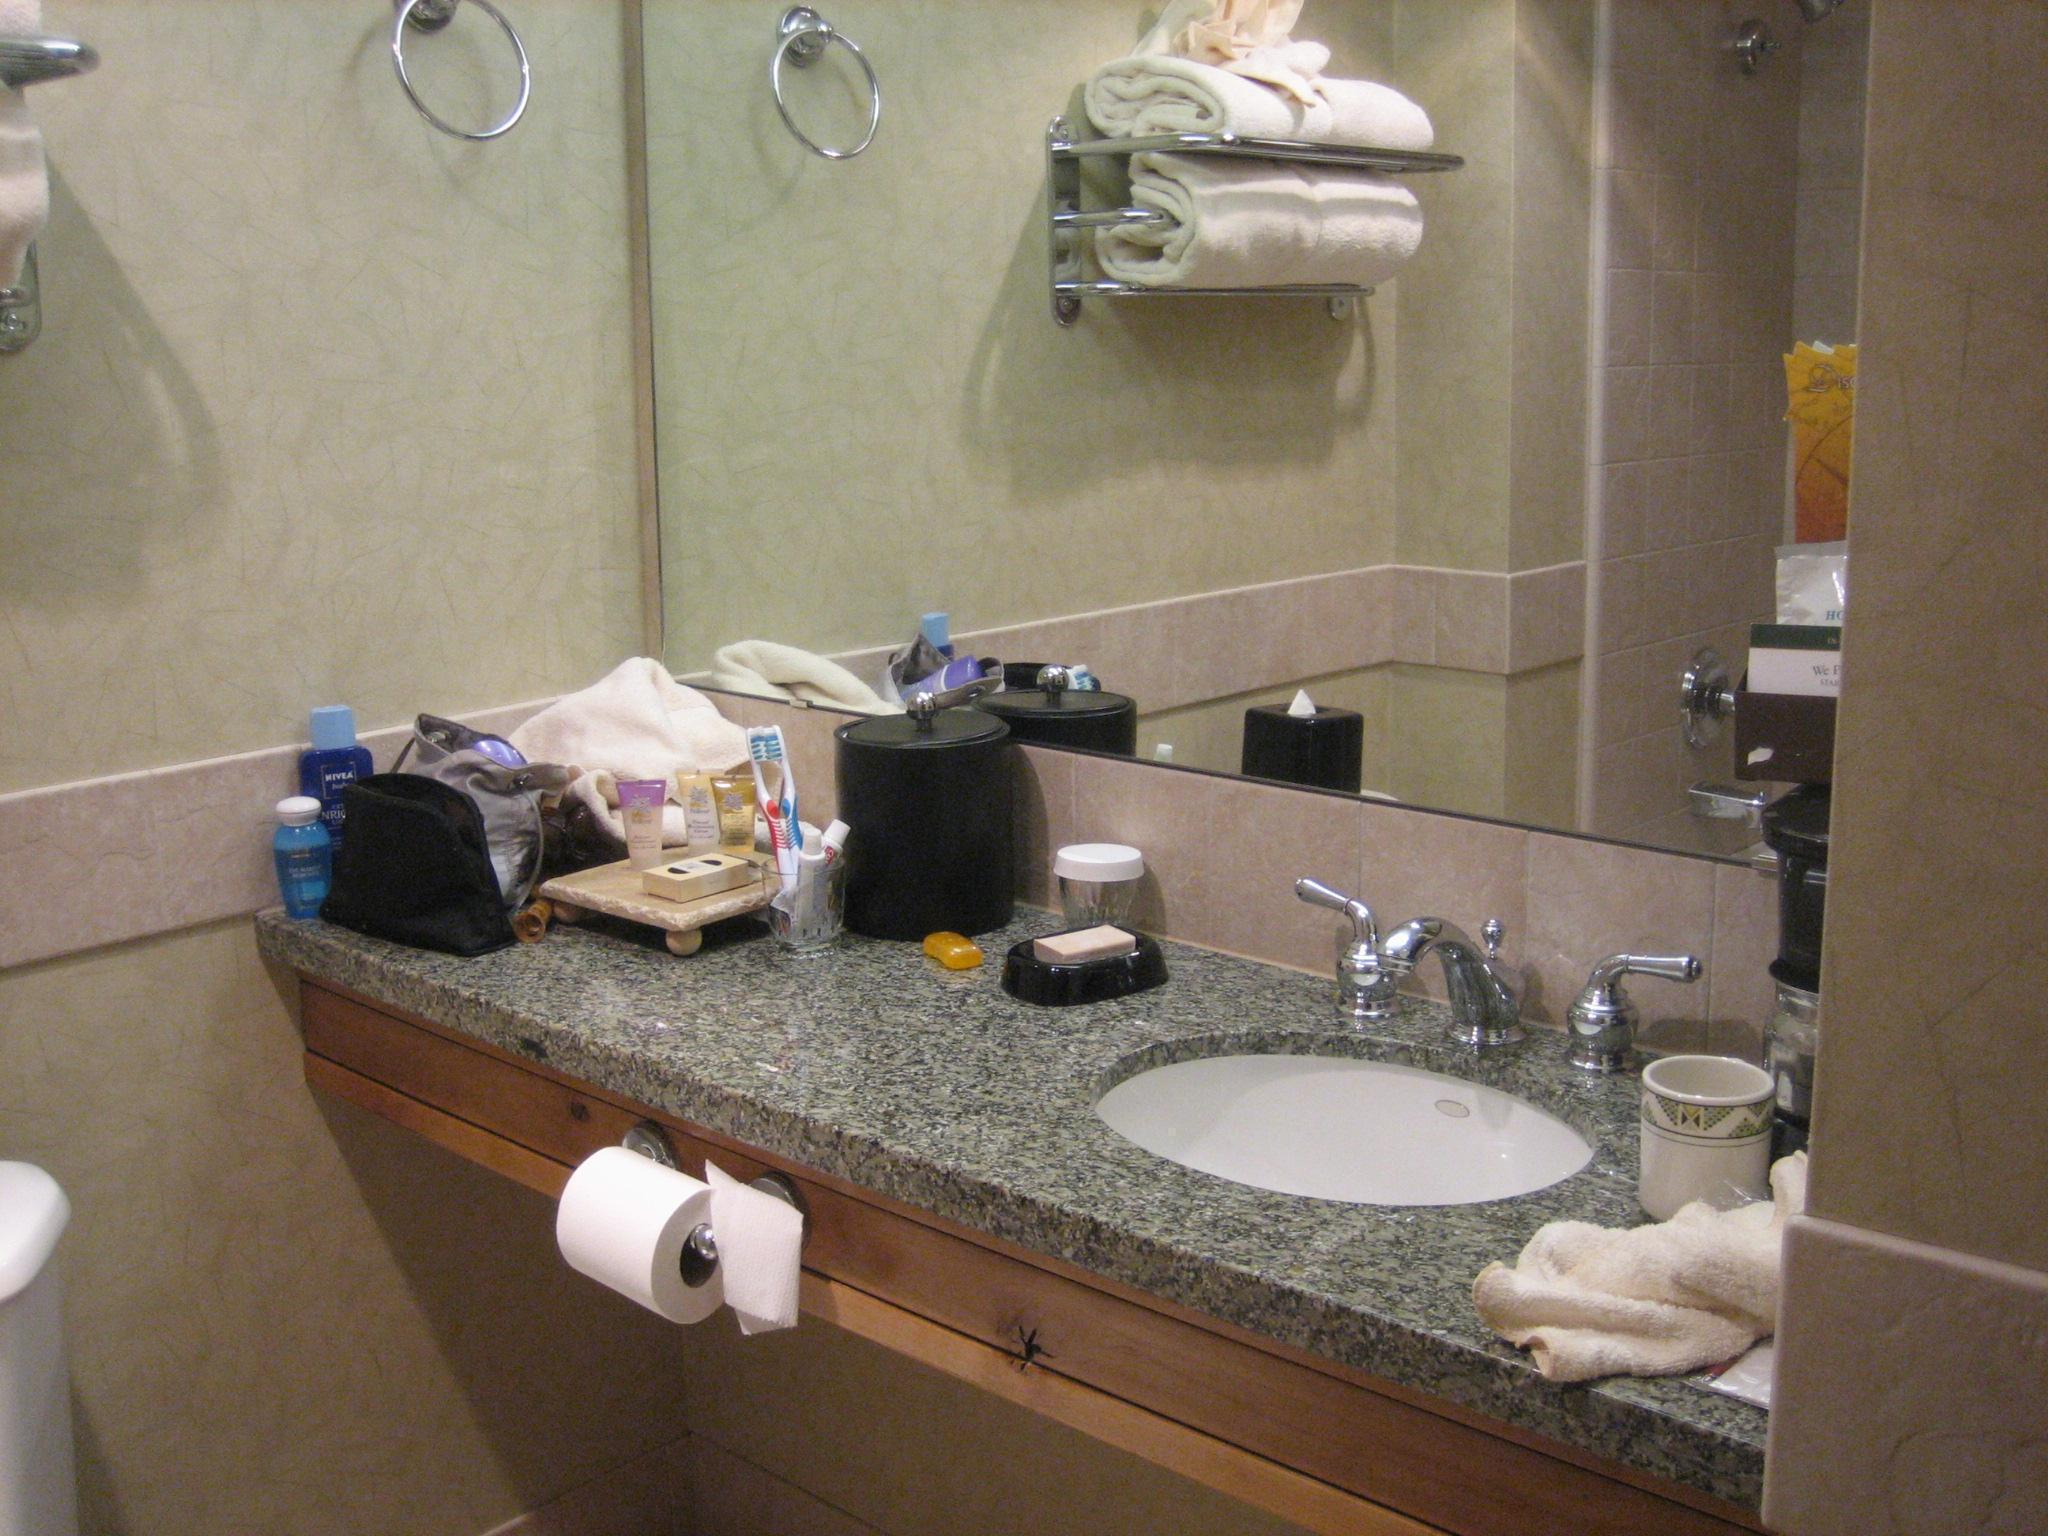Lavamanos: (1118, 874, 1661, 1312)
